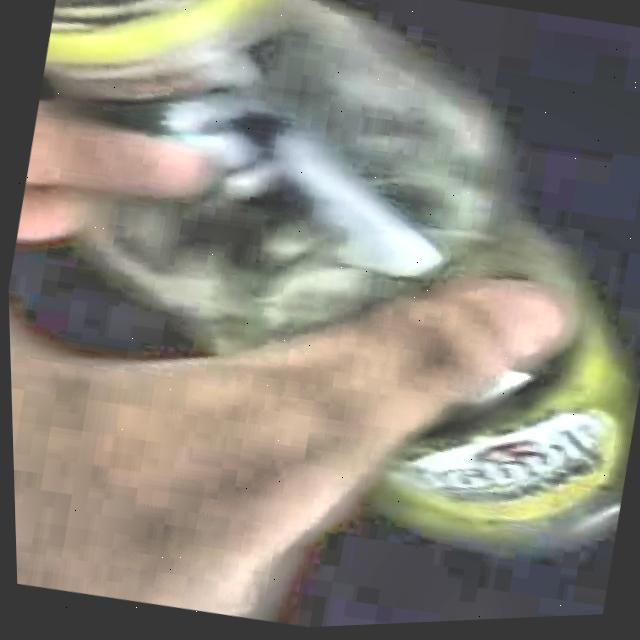plastic: (44, 0, 575, 354), (375, 312, 637, 547)
